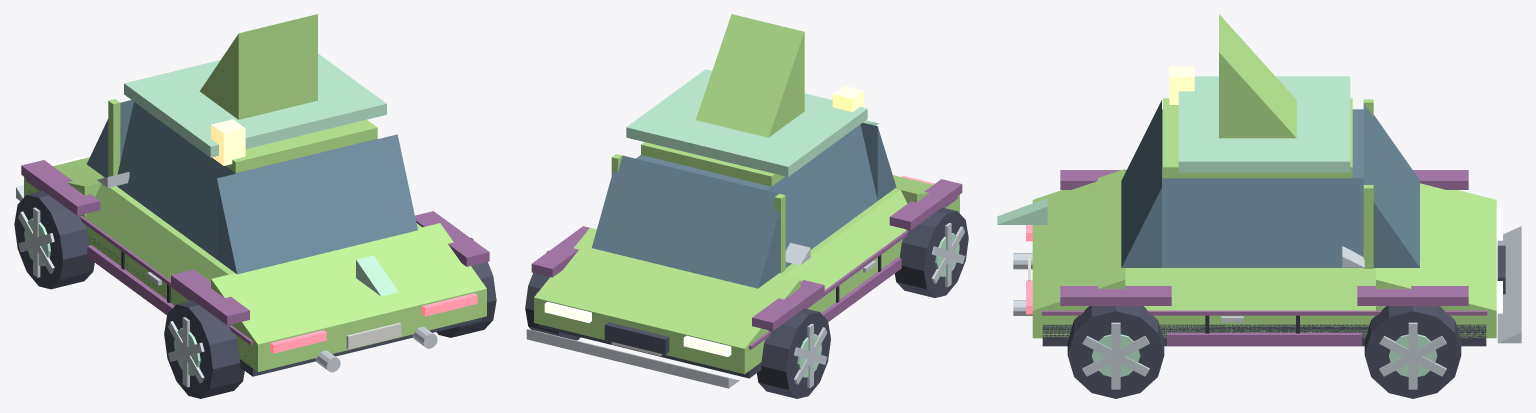
Rendered from jester_jalopy.glb.
3 renders of one model, left to right at view 1: azimuth 30°, elevation 25°; view 2: azimuth 150°, elevation 25°; view 3: azimuth 270°, elevation 25°, orthographic. The views are drawn at different scales.
Visible parts, largest first — view 1: RearWindow.229, Tail.132, HatBrim.007, CabinSideL.126, HatPeak.007, Body.329, ShoulderL.126, Wheel_RL.269, Wheel_FL.269, Roof.329, Arch-1False.185, Arch-1True.185 (+16 smaller); view 2: Windshield.229, Nose.126, HatBrim.007, HatPeak.007, CabinSideL.126, Body.329, ShoulderL.126, Wheel_FL.269, Wheel_RL.269, Bumper.325, Roof.329, Arch-1True.185 (+16 smaller); view 3: CabinSideR.126, HatBrim.007, Tail.132, Nose.126, ShoulderR.126, Windshield.229, HatPeak.007, RearWindow.229, Wheel_FR.269, Wheel_RR.269, Body.329, Sill.325 (+21 smaller).
Part boxes in pixels (x1,y1,x2,y2): RearWindow.229: [217, 134, 417, 274]; Tail.132: [211, 223, 486, 344]; HatBrim.007: [124, 53, 386, 157]; CabinSideL.126: [117, 102, 235, 259]; HatPeak.007: [199, 14, 317, 119]; Body.329: [24, 177, 486, 371]; ShoulderL.126: [85, 184, 228, 281]; Wheel_RL.269: [164, 300, 244, 398]; Wheel_FL.269: [14, 191, 94, 289]; Roof.329: [226, 119, 377, 172]; Arch-1False.185: [21, 160, 100, 215]; Arch-1True.185: [171, 269, 249, 325]; Windshield.229: [592, 155, 779, 288]; Nose.126: [534, 227, 800, 348]; HatBrim.007: [626, 69, 867, 176]; HatPeak.007: [695, 14, 804, 137]; CabinSideL.126: [766, 124, 877, 267]; Body.329: [534, 195, 959, 374]; ShoulderL.126: [785, 190, 907, 289]; Wheel_FL.269: [757, 308, 830, 398]; Wheel_RL.269: [895, 207, 968, 297]; Bumper.325: [526, 329, 739, 388]; Roof.329: [641, 142, 785, 186]; Arch-1True.185: [889, 179, 962, 230]; CabinSideR.126: [1162, 178, 1363, 267]; HatBrim.007: [1178, 76, 1350, 172]; Tail.132: [1032, 169, 1125, 310]; Nose.126: [1376, 183, 1496, 310]; ShoulderR.126: [1125, 271, 1375, 310]; Windshield.229: [1363, 103, 1419, 267]; HatPeak.007: [1219, 14, 1296, 138]; RearWindow.229: [1121, 100, 1161, 267]; Wheel_FR.269: [1364, 306, 1461, 398]; Wheel_RR.269: [1067, 306, 1164, 398]; Body.329: [1032, 310, 1496, 338]; Sill.325: [1042, 324, 1486, 346].
Bounding box in the file's own units: 3.3 × 3.25 × 5.2.
